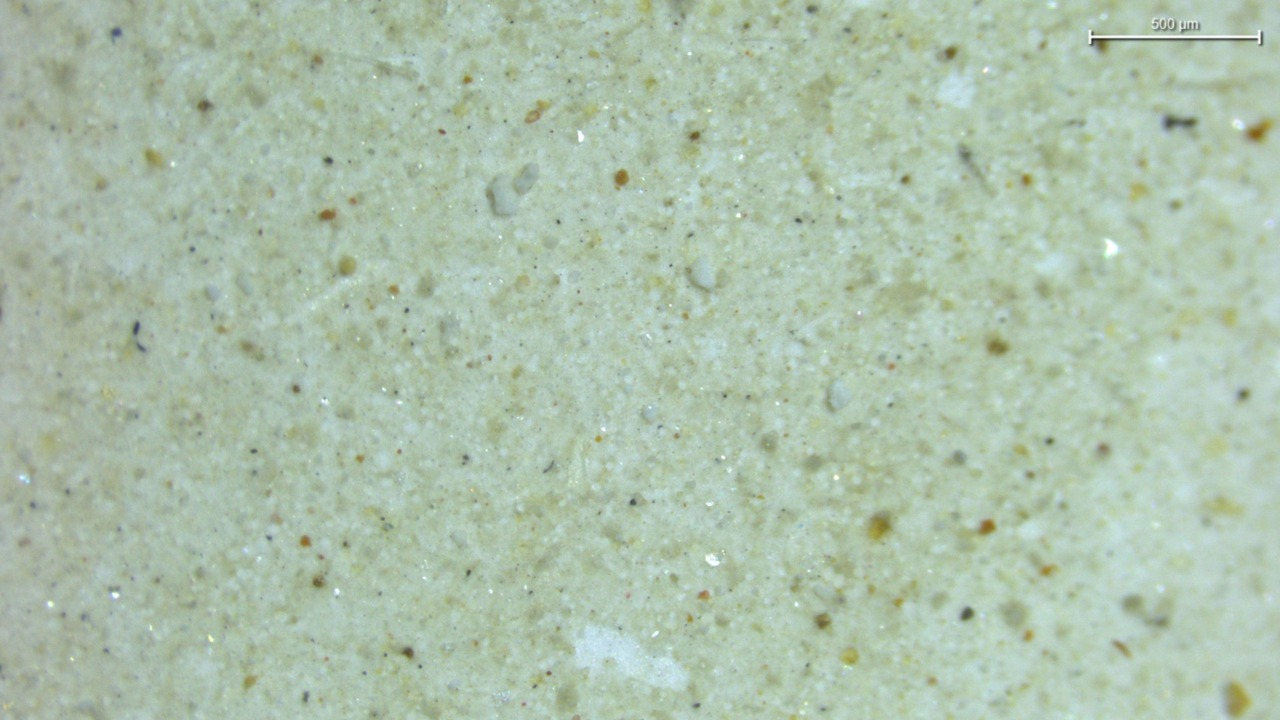microplastic_fragment: (487, 163, 538, 216), (687, 258, 716, 290), (827, 379, 853, 413)
